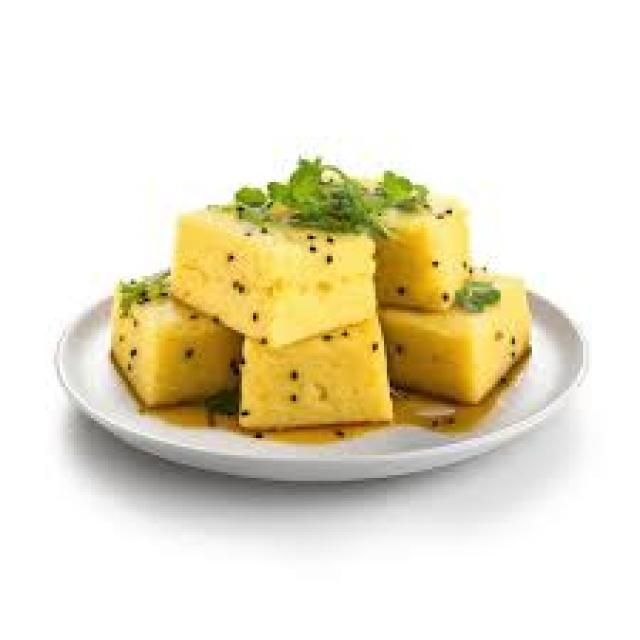DHOKLA: (114, 157, 535, 427)
